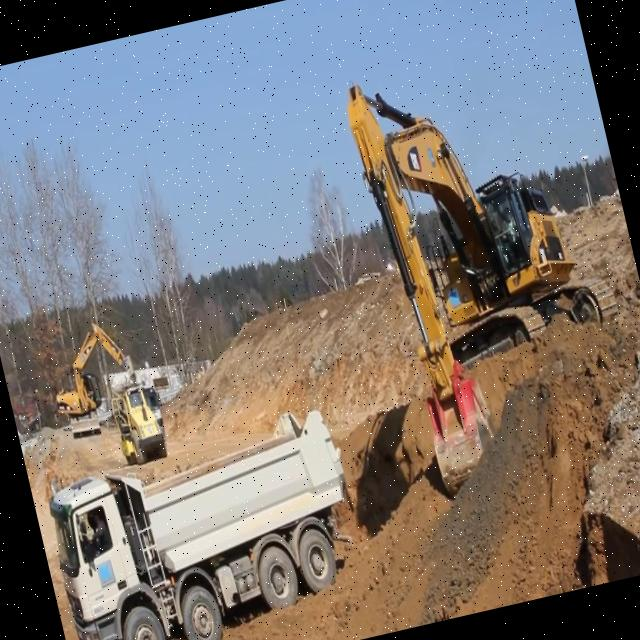Dump Truck: (36, 400, 380, 640), (138, 381, 167, 437)
Excavator: (338, 31, 640, 502), (39, 314, 146, 441), (589, 87, 618, 190)
Roller: (107, 382, 169, 468)
